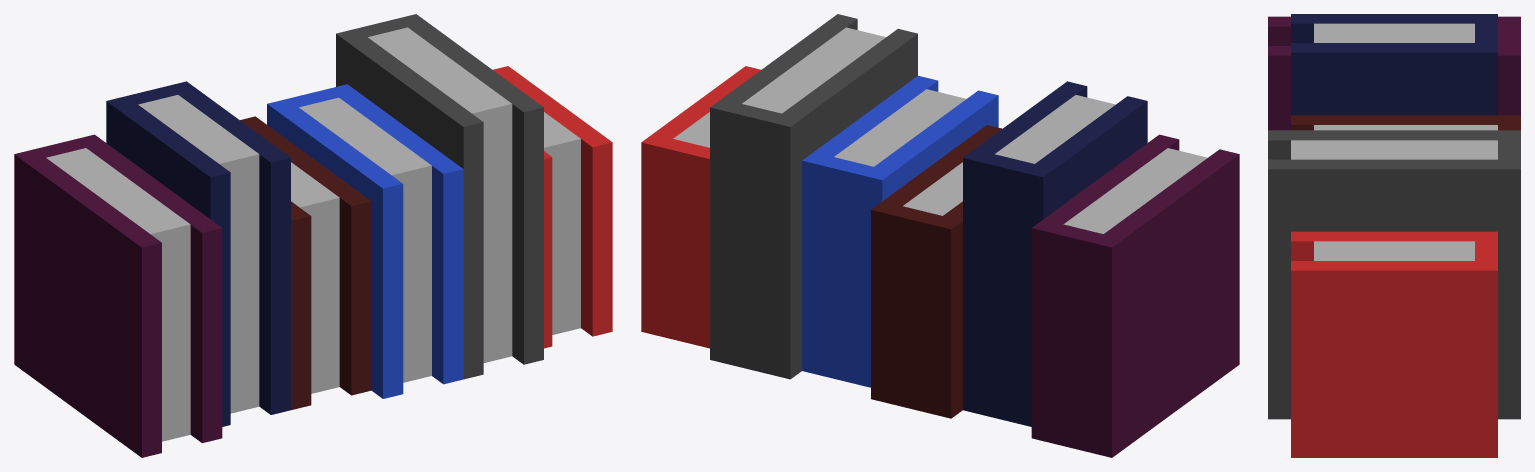
The model's file is books_02.dae.
3 renders of one model, left to right at view 1: azimuth 30°, elevation 25°; view 2: azimuth 150°, elevation 25°; view 3: azimuth 270°, elevation 25°, orthographic.
Parts seen in each view (by area): view 1: Untitled; view 2: Untitled; view 3: Untitled.
Boxes of the visible parts, x1,y1,x2,y2 form: Untitled: (14,14,612,457); Untitled: (641,14,1239,457); Untitled: (1268,14,1520,457).
Size of the model in its own units: 0.72 by 0.33 by 0.36.
1 material, 1 textured.
